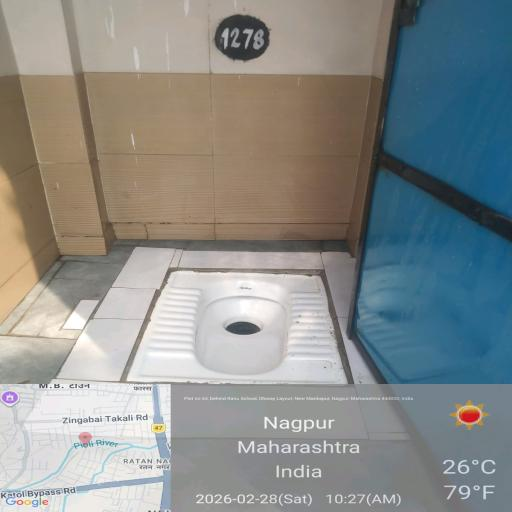clean_floor: (40, 45, 424, 231)
clean_indian: (159, 264, 339, 416)
partial_dirty_floor: (7, 246, 459, 512)
